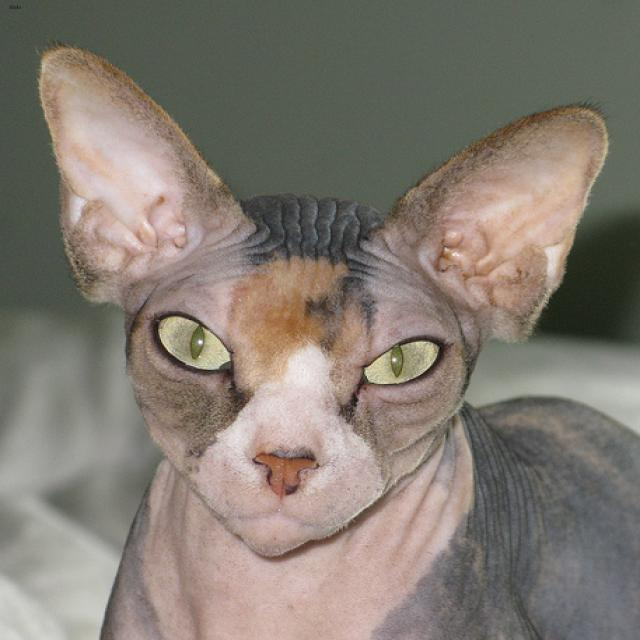Sphynx: (35, 36, 617, 562)
